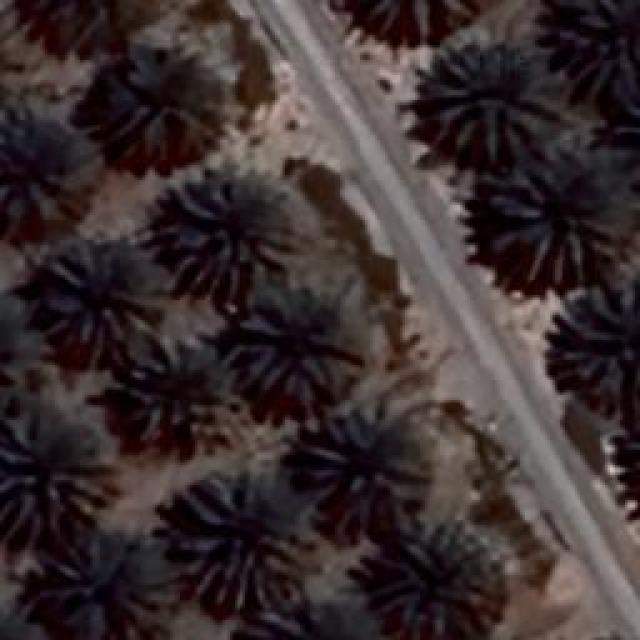PalmTree: (417, 28, 565, 162), (168, 470, 302, 608), (484, 158, 618, 288), (160, 170, 300, 292), (27, 532, 165, 640), (378, 520, 500, 638), (110, 40, 225, 165), (120, 338, 245, 452), (230, 285, 352, 400), (0, 420, 112, 537), (300, 413, 425, 513), (1, 106, 94, 236), (40, 252, 158, 352), (552, 282, 638, 396), (562, 0, 636, 98), (341, 0, 489, 40), (16, 0, 134, 50), (233, 602, 367, 640), (0, 298, 40, 403), (604, 82, 640, 190), (604, 402, 640, 509), (0, 606, 37, 640)
